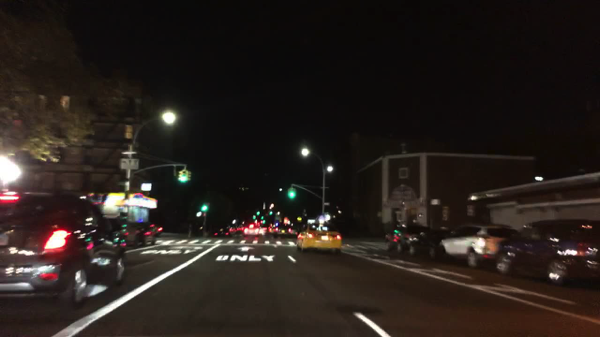car: (1, 190, 126, 313), (496, 219, 598, 285), (439, 222, 520, 270), (296, 214, 343, 255), (408, 228, 452, 260), (386, 225, 429, 256), (122, 221, 163, 249), (242, 223, 259, 238), (273, 224, 289, 239), (215, 228, 230, 237), (289, 226, 301, 237), (268, 223, 274, 236), (229, 226, 237, 235), (238, 226, 246, 235)
traffic light: (182, 169, 188, 184), (176, 171, 183, 183), (289, 188, 296, 199), (202, 206, 209, 213), (188, 172, 191, 183), (256, 211, 261, 216), (251, 216, 257, 220), (269, 211, 273, 216), (261, 215, 264, 220), (263, 220, 266, 225)
traffic sign: (121, 160, 140, 170), (324, 202, 331, 206)
